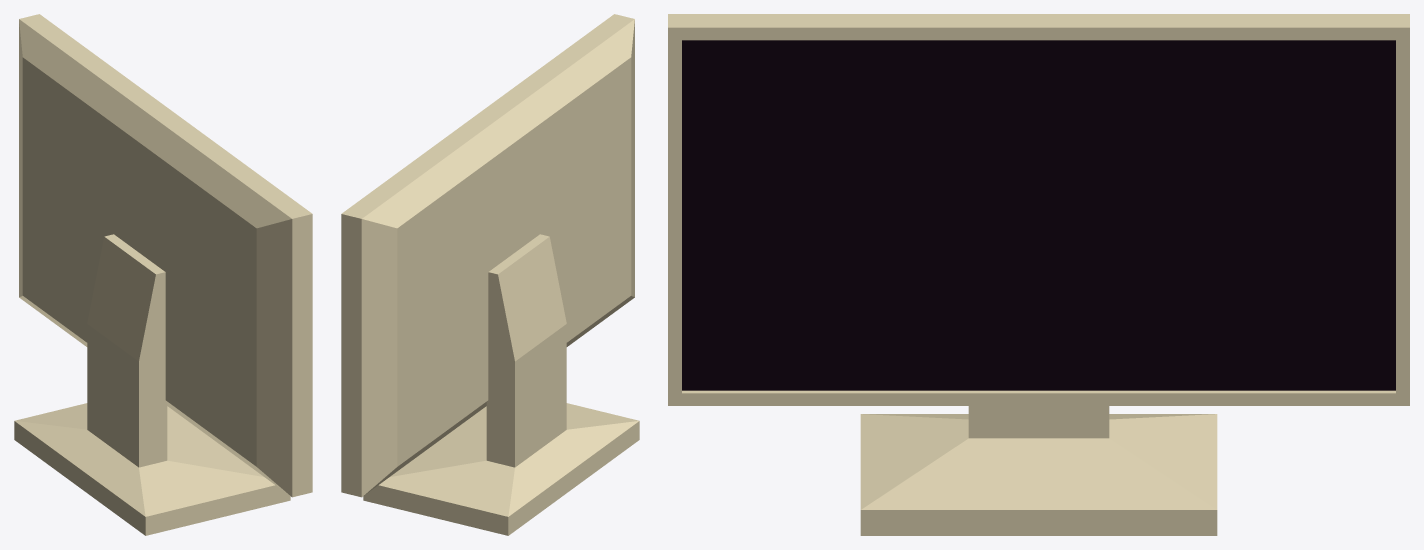
File: monitor.fbx
3 views of the same model, side by side, from view 1: azimuth 30°, elevation 25°; view 2: azimuth 150°, elevation 25°; view 3: azimuth 270°, elevation 25° (orthographic). The views are drawn at different scales.
Parts seen in each view (by area): view 1: Cube.001; view 2: Cube.001; view 3: Cube.001.
Part boxes in pixels (x1,y1,x2,y2): Cube.001: (14, 14, 312, 535); Cube.001: (341, 14, 639, 535); Cube.001: (668, 14, 1409, 535).
Bounding box in the file's own units: 0.1594 × 0.3681 × 0.52.
